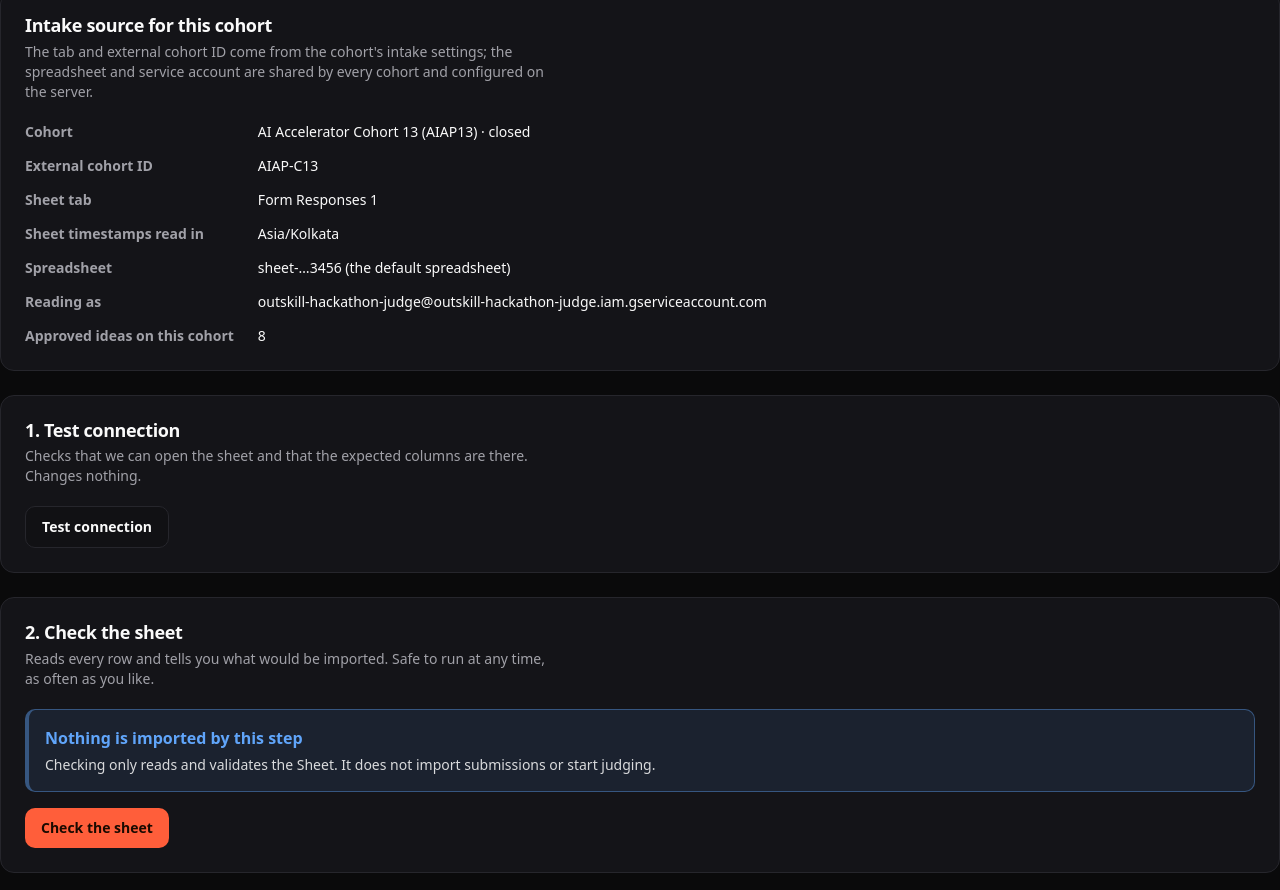
Test: after checking the sheet › reports a sheet it could not read, without a stack trace
This screenshot has width=1280, height=890.
Click the button "Check the sheet".
click(97, 828)  # box [25,808,169,848]
(page scrolled)
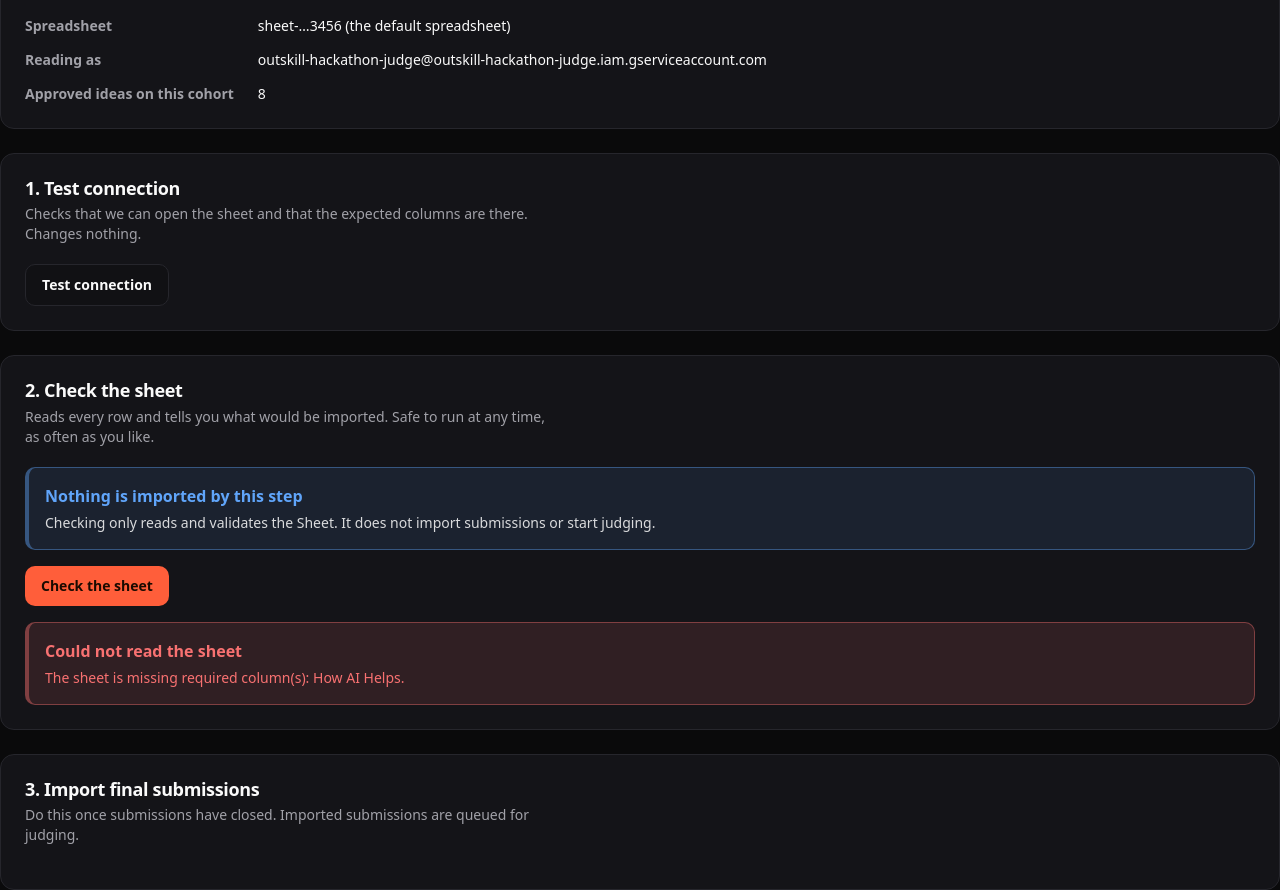
Now the text "The sheet is missing required column(s): How AI Helps." is shown, box [45,668,404,687]
